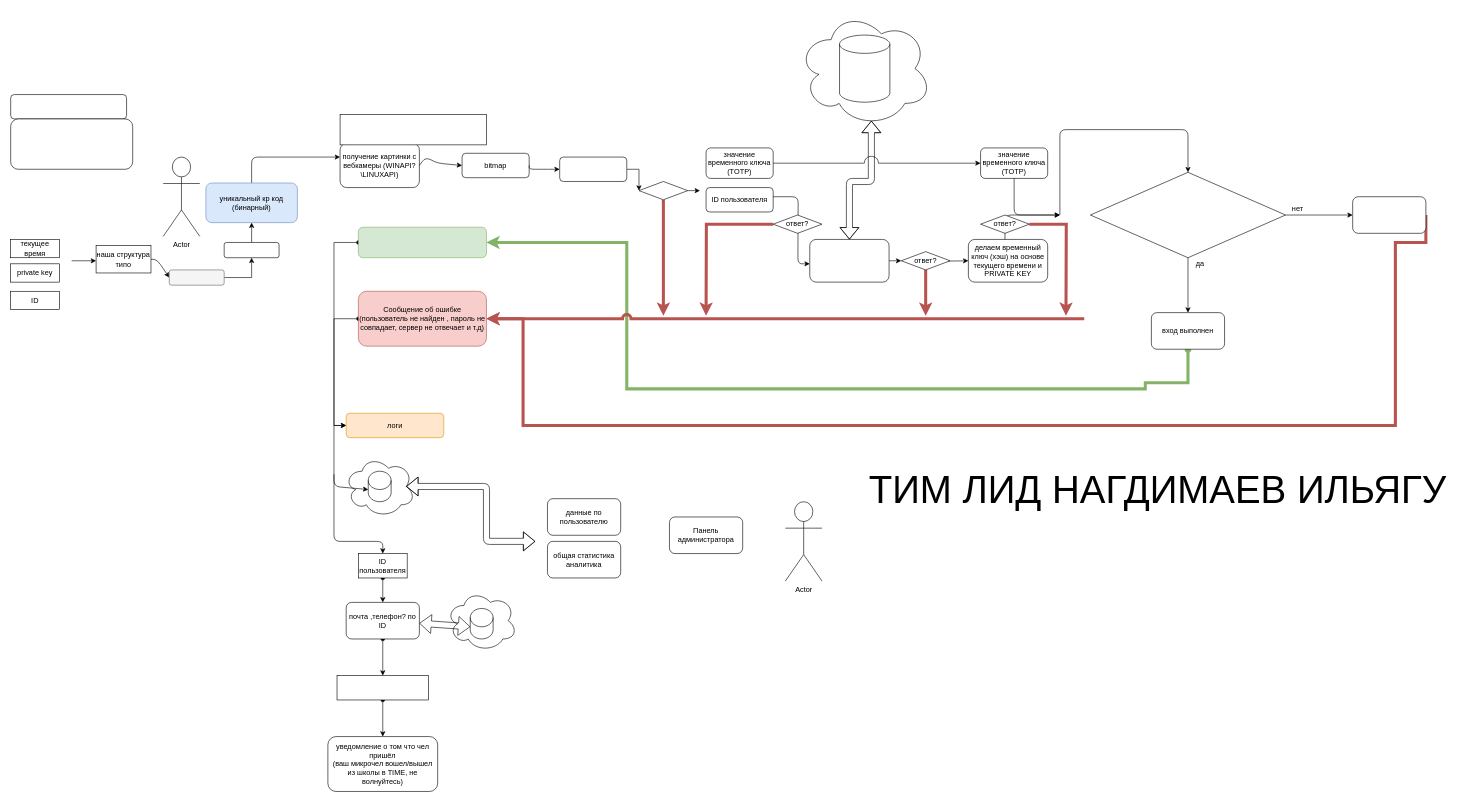
This 1461x802 diagram has some shape labels left out. The shapes that lost their labels are listed below. From the top down, each one's centre as x and y in pixels, then its label:
At point (68, 106): "вебсайт (JS)".
At point (71, 143): "пользователь зашел в систему. Сайт безостановочно генерирует временные кр коды".
At point (412, 129): "Компьютер подключенный к вебкамере".
At point (593, 168): "распознование кр кода".
At point (663, 190): "распознан?".
At point (1188, 215): "временный ключ пользователя = временный ключ полученный системой".
At point (1389, 214): "вход не выполнен".
At point (251, 250): "QR код".
At point (422, 242): "Турникет открылся".
At point (849, 260): "запрос на базу данных (получаем PRIVATE KEY по ID)".
At point (196, 277): "шифратор".
At point (382, 687): "почта?, sms?!!".
